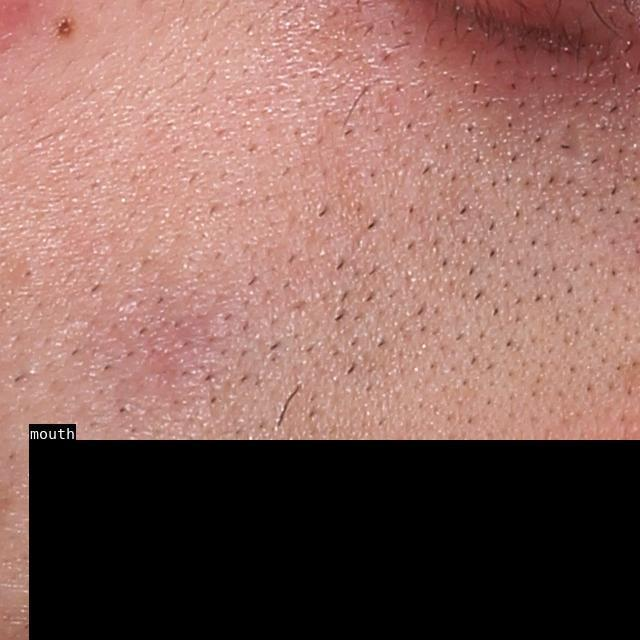atrophic_scar: (554, 116, 589, 165)
comedo: (11, 256, 44, 285)
nevus: (54, 14, 79, 40)
